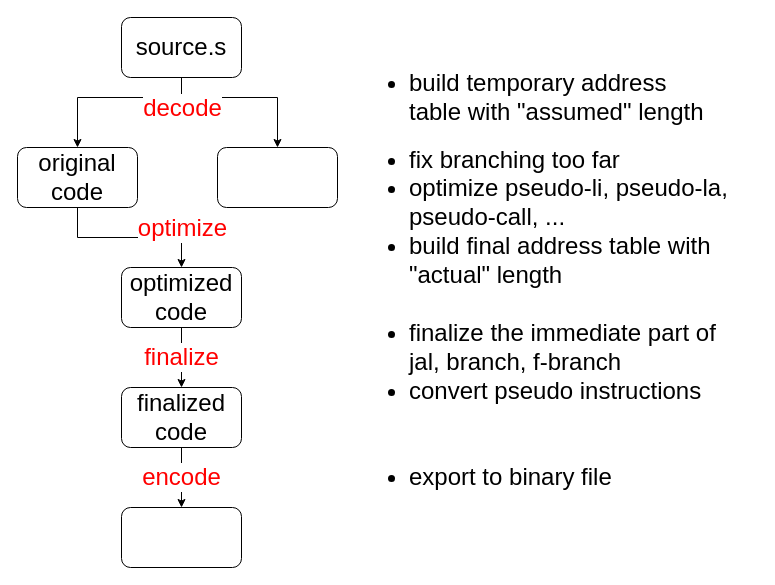
Some shapes in this 775 by 585 pixel diagram are drawn without their labels. Here are the shapes that lost their labels. From the top down, the centre of each, then its label:
the point at 277,177: data
the point at 181,537: machine code
